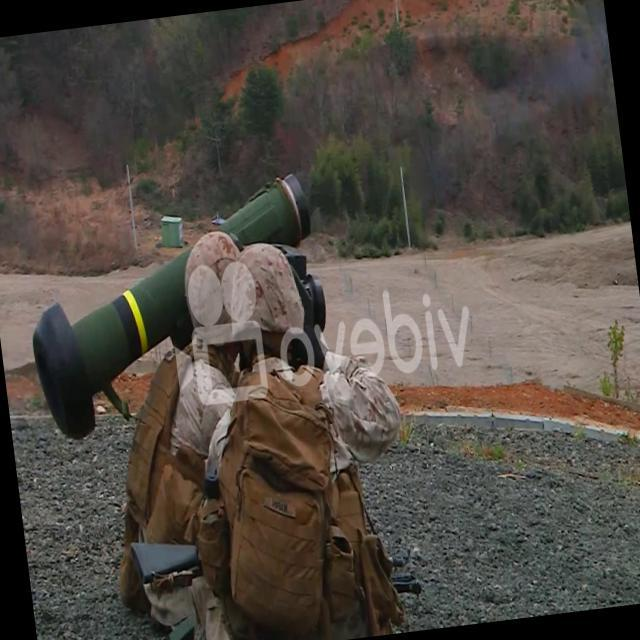rocket: (17, 176, 326, 444)
